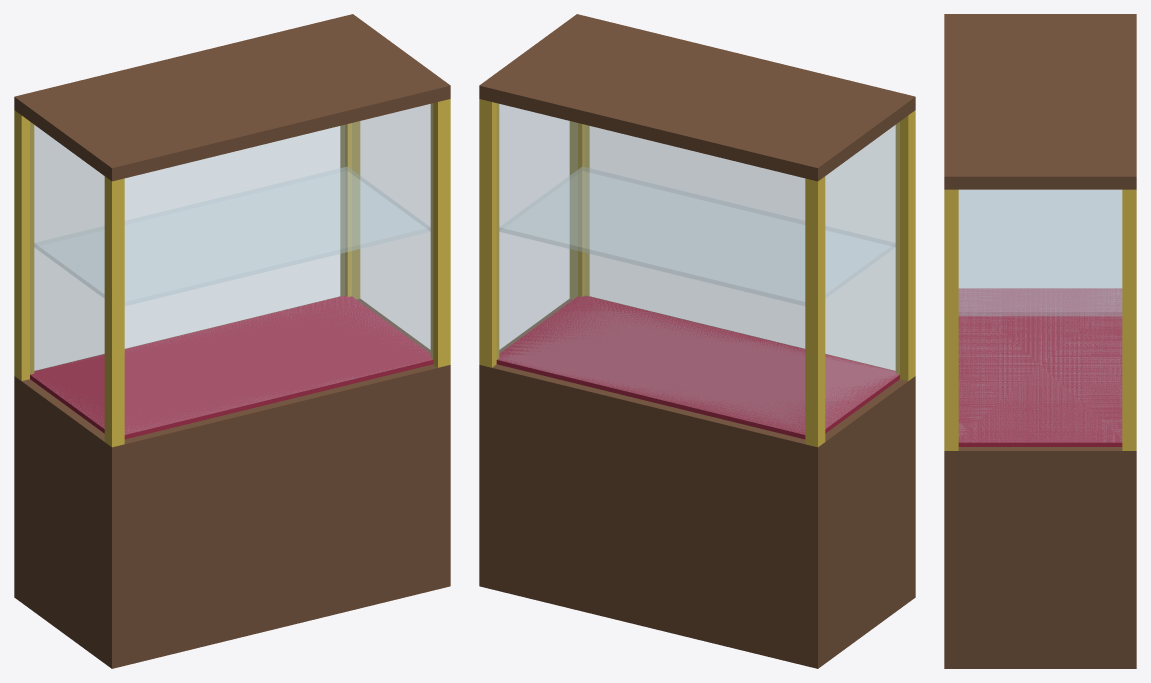
File: furn_glass_cabinet.glb
3 views of the same model, side by side, from view 1: azimuth 30°, elevation 25°; view 2: azimuth 150°, elevation 25°; view 3: azimuth 270°, elevation 25° (orthographic).
Visible parts, largest first — view 1: furn_glass_cabinet; view 2: furn_glass_cabinet; view 3: furn_glass_cabinet.
Part boxes in pixels (box(x1,y1,x2,y2)): furn_glass_cabinet: box(14, 14, 450, 668); furn_glass_cabinet: box(479, 14, 915, 668); furn_glass_cabinet: box(944, 14, 1136, 668).
Bounding box in the file's own units: 0.8 × 1.13 × 0.4.
